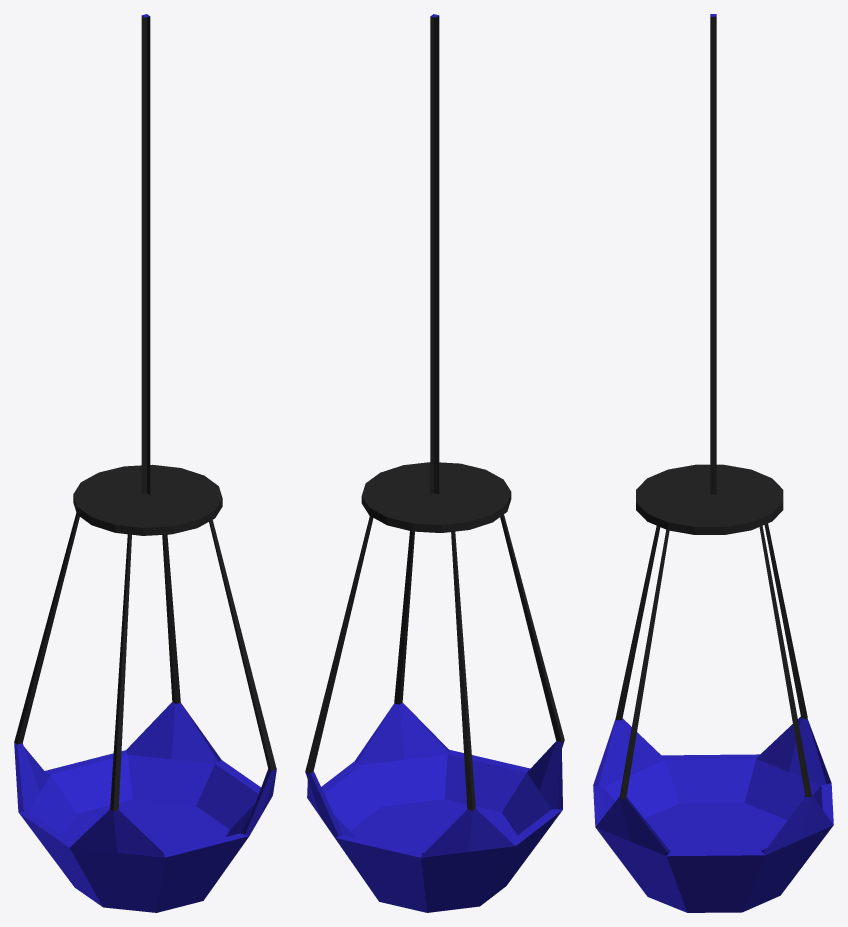
The model's file is vaso_voador.obj.
3 renders of one model, left to right at view 1: azimuth 30°, elevation 25°; view 2: azimuth 150°, elevation 25°; view 3: azimuth 270°, elevation 25°, orthographic.
Parts seen in each view (by area): view 1: Cylinder.006_Cylinder.007; view 2: Cylinder.006_Cylinder.007; view 3: Cylinder.006_Cylinder.007.
Boxes of the visible parts, x1=… form: Cylinder.006_Cylinder.007: x1=14, y1=14, x2=276, y2=912; Cylinder.006_Cylinder.007: x1=305, y1=14, x2=564, y2=912; Cylinder.006_Cylinder.007: x1=593, y1=14, x2=833, y2=912.
Bounding box in the file's own units: 1.86 × 7.43 × 1.86.
